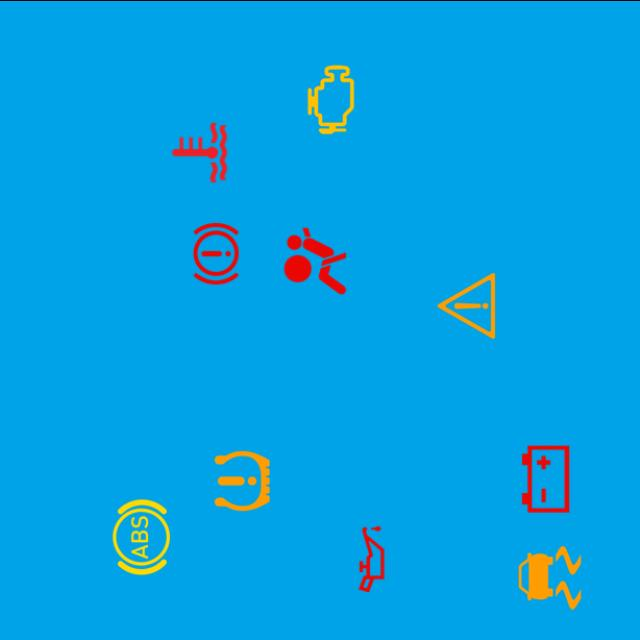Anti Lock Braking System: (100, 495, 182, 578)
Braking System Issue: (175, 212, 258, 294)
Charging System Issue: (504, 436, 586, 520)
Check Engine: (290, 58, 372, 140)
Electronic Stability Problem -ESP-: (509, 536, 591, 618)
Engine Overheating Warning Light: (158, 110, 240, 192)
Low Engine Oil Warning Light: (330, 517, 412, 599)
Low Tire Pressure Warning Light: (202, 438, 284, 522)
Master warning light: (426, 264, 508, 346)
SRS-Airbag: (274, 219, 356, 301)
